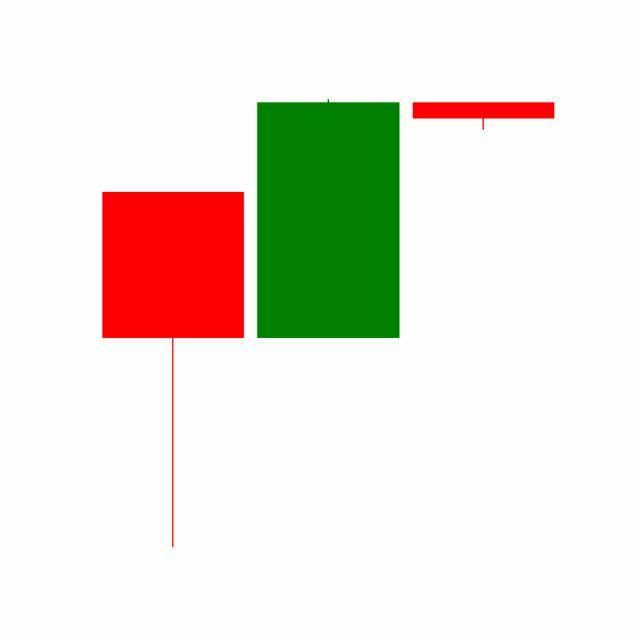Marubozu: (250, 97, 407, 341)
